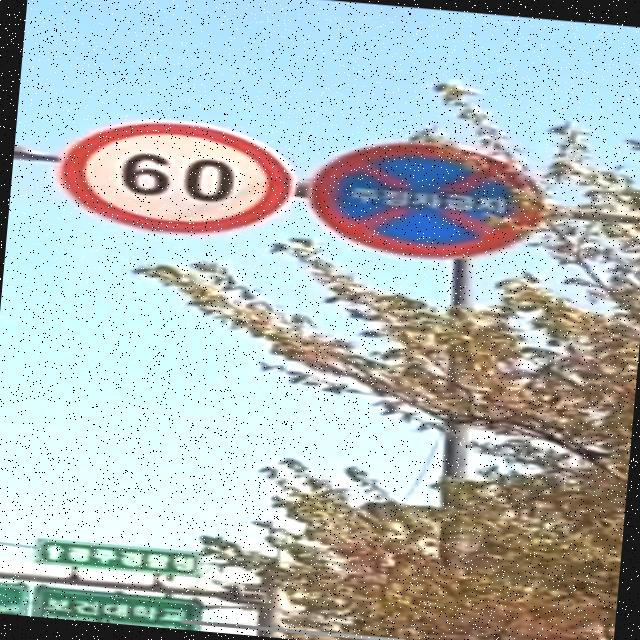Ograniczenie predkosci do 60: (54, 111, 300, 243), (54, 112, 295, 241)
